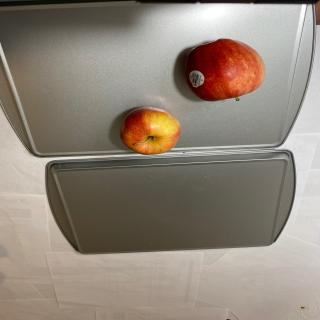Apple: (184, 38, 266, 102), (120, 107, 181, 155)
